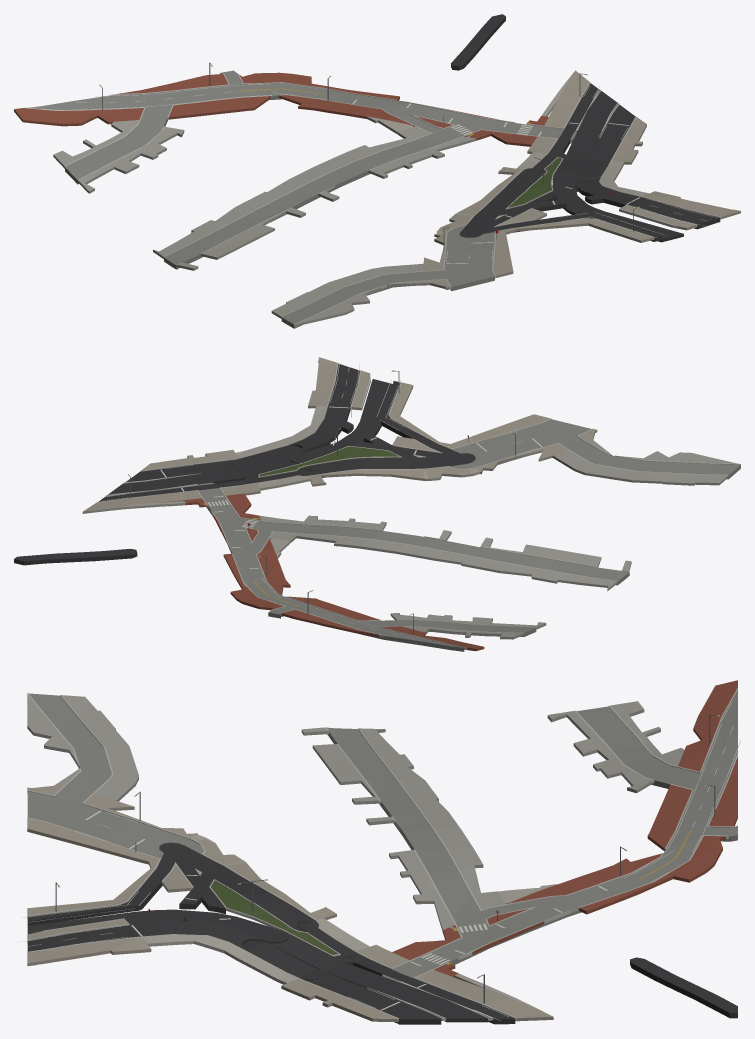
File: 18-218884-118944.cfe8c95c.glb
3 renders of one model, top to bottom at view 1: azimuth 30°, elevation 25°; view 2: azimuth 150°, elevation 25°; view 3: azimuth 270°, elevation 25°, orthographic. The views are drawn at different scales.
Size of the model in its own units: 148 by 15.52 by 149.
